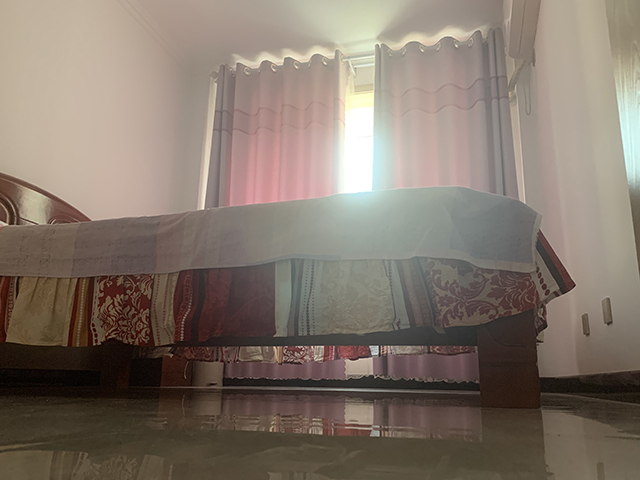bed: (1, 172, 577, 409)
cabinet: (130, 356, 191, 387)
curtain: (371, 38, 512, 384), (212, 52, 349, 384)
trashcan: (190, 360, 226, 389)
